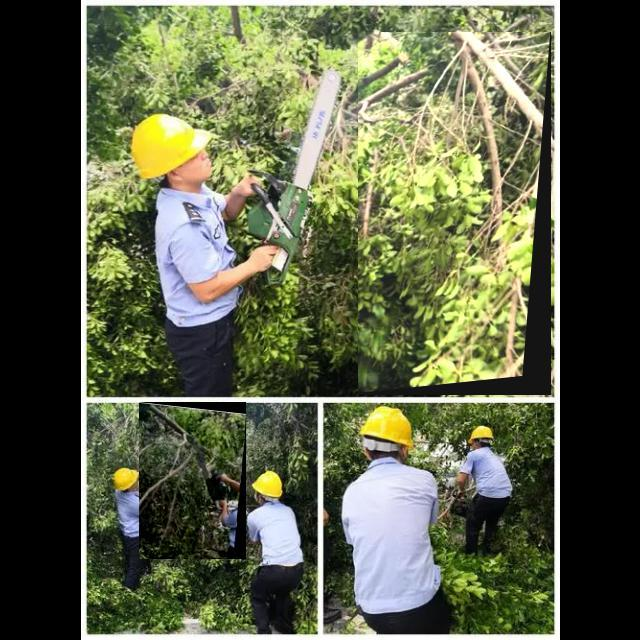fallen_tree: (358, 32, 552, 396), (139, 402, 247, 560)
